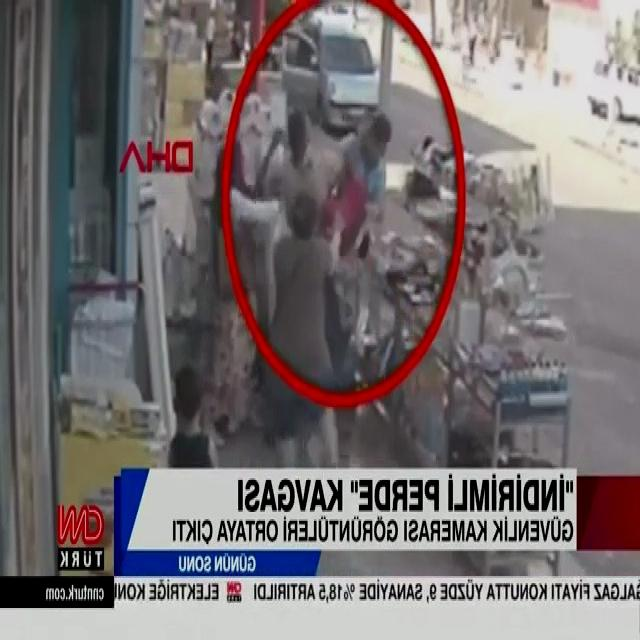fight: (284, 99, 395, 288)
